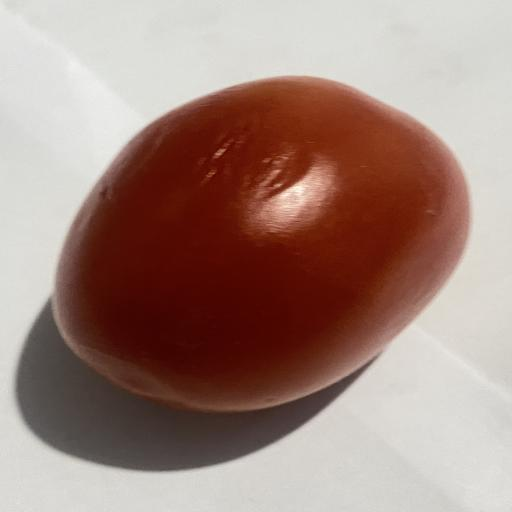overipe: (54, 77, 469, 412)
